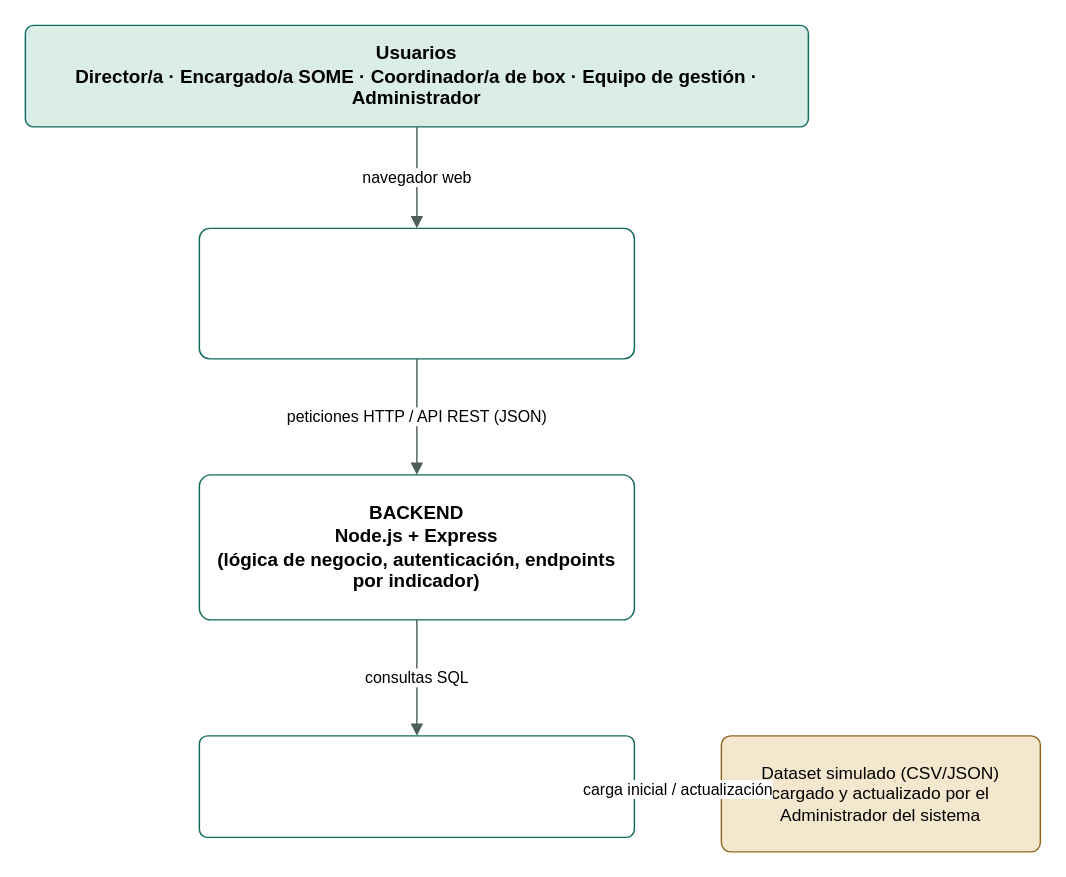
Some shapes in this 1066 by 877 pixel diagram are drawn without their labels. Here are the shapes that lost their labels. From the top down, the centre of each, then its label:
At (416,293): "FRONTEND React + Tailwind CSS (Dashboard: KPIs, gráficos, filtros)".
At (416,785): "BASE DE DATOS PostgreSQL / SQLite".
